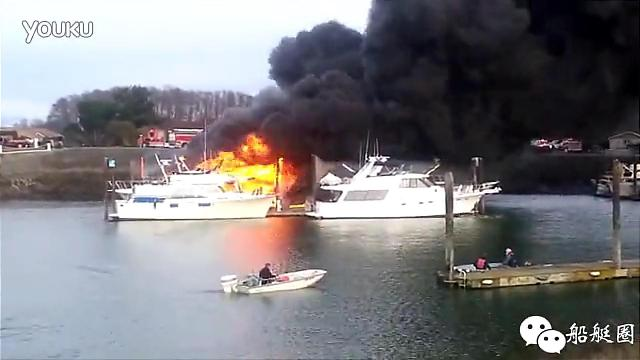fire: (234, 164, 276, 190), (242, 134, 268, 156), (277, 158, 293, 190), (220, 154, 242, 168)
